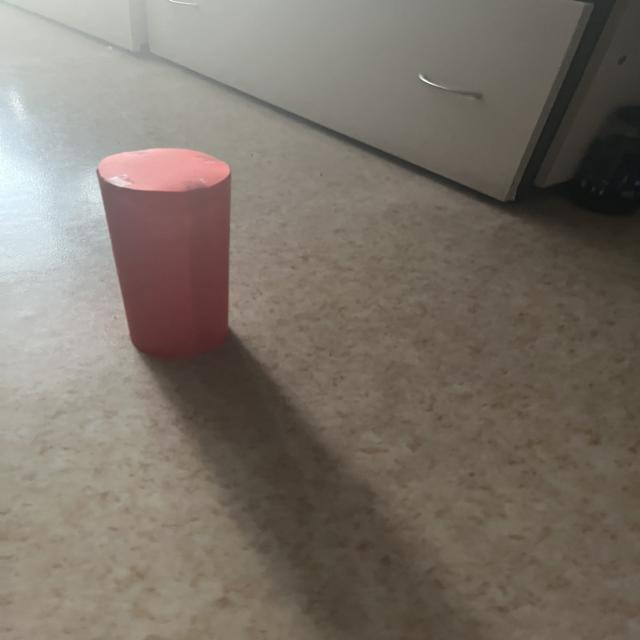przeszkoda: (96, 148, 230, 358)
